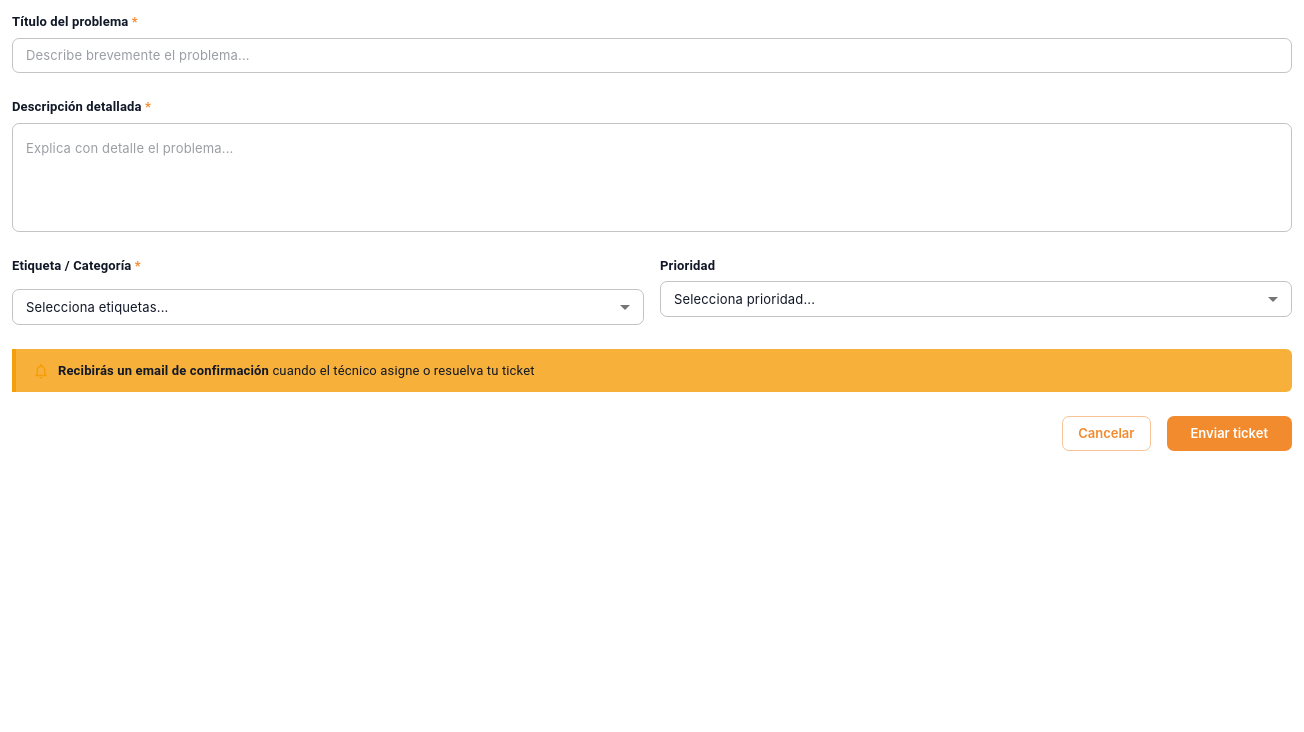
Test: CreateTicketForm › muestra error si el título es demasiado corto
Type "abc" into the field with placeholder "Describe brevemente el problema..." at {"x": 652, "y": 55}, box [12,38,1292,73]
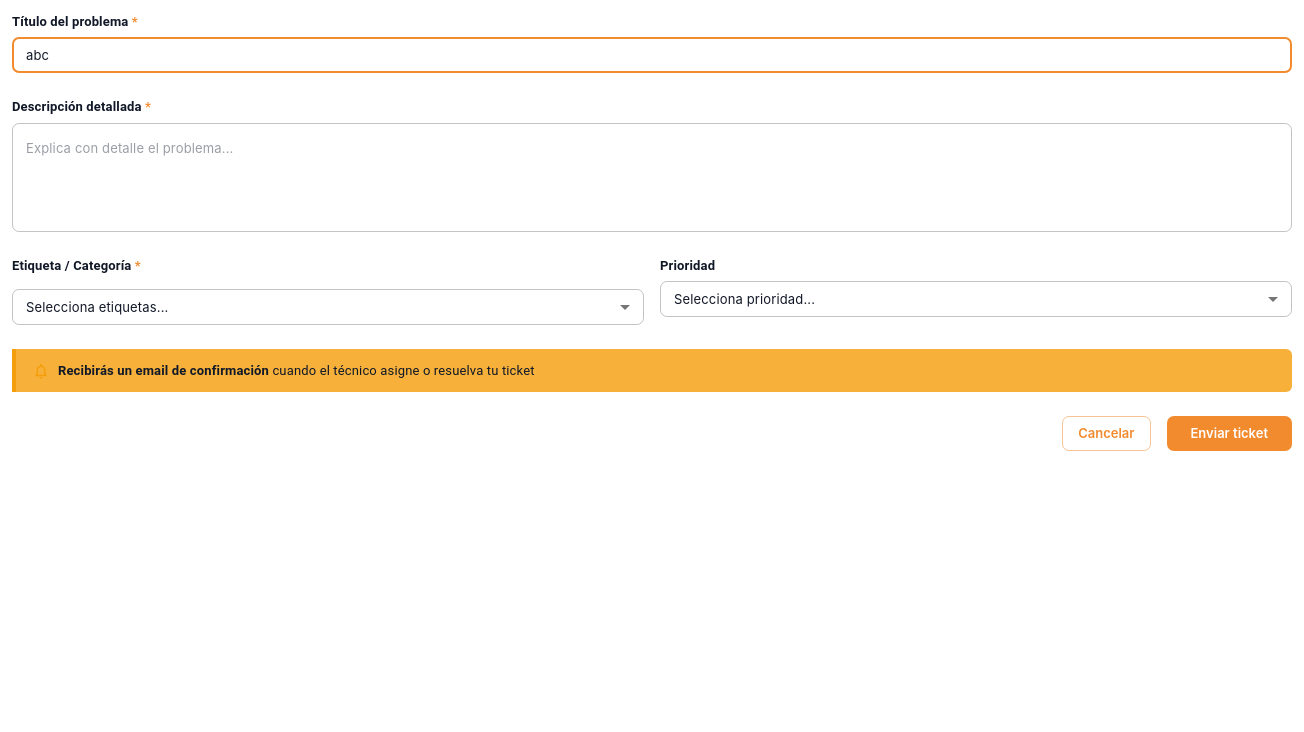
Click the button "Enviar ticket" at {"x": 1229, "y": 434}, box [1166,416,1292,451]
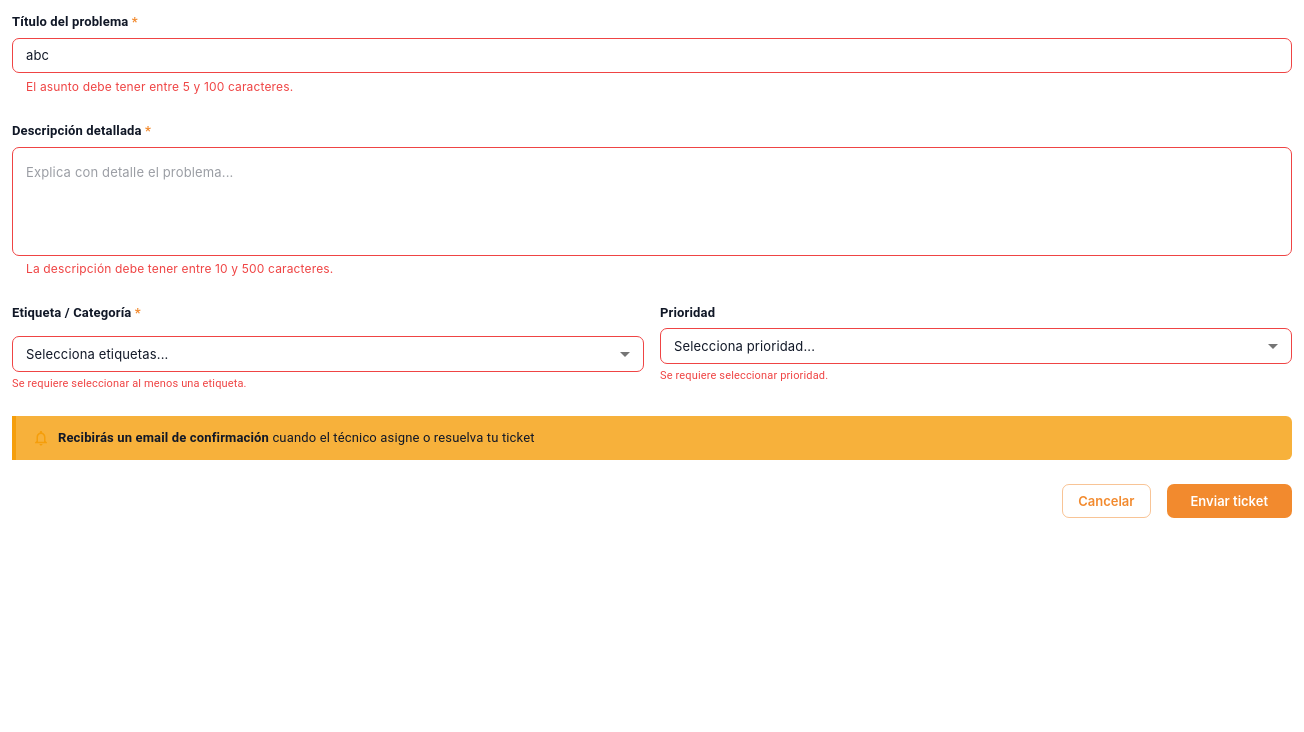
Now the text "El asunto debe tener entre 5 y 100 caracteres." is shown, box [26,79,293,94]
